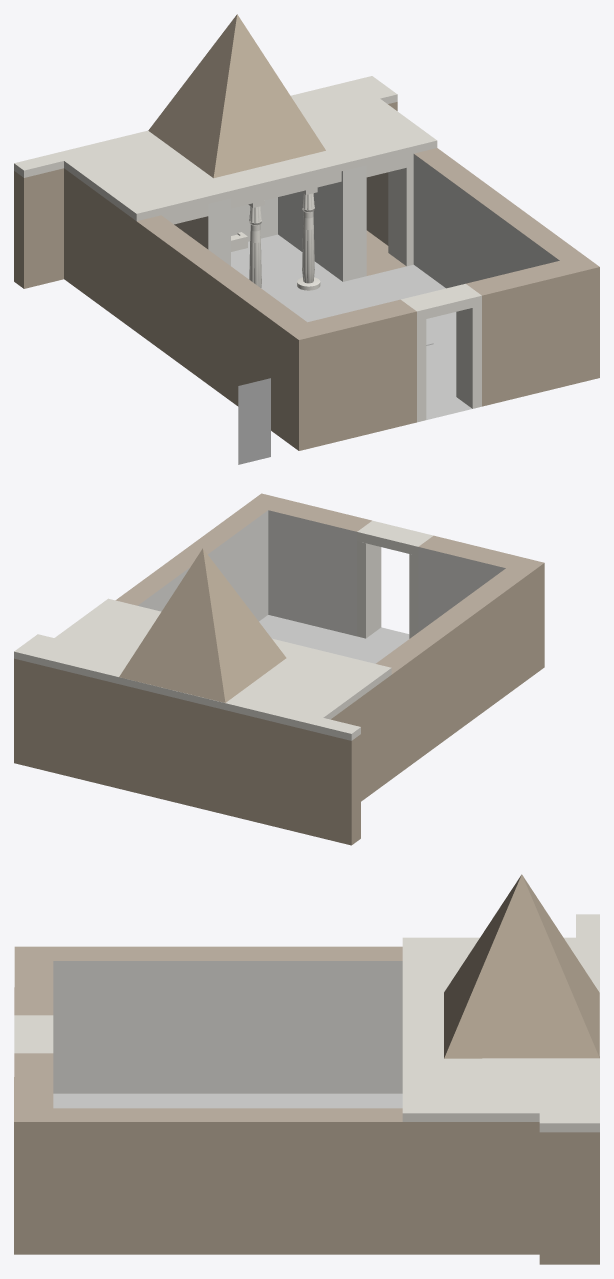
File: Ipuia.glb
3 views of the same model, one above another, from view 1: azimuth 30°, elevation 25°; view 2: azimuth 150°, elevation 25°; view 3: azimuth 270°, elevation 25° (orthographic). The views are drawn at different scales.
Visible parts, largest first — view 1: Mesh6 Model, Mesh5 Component_3_1 Model, Mesh7 Model, Mesh3 Component_13_2 Model, Mesh1 Component_13_1 Model; view 2: Mesh6 Model, Mesh5 Component_3_1 Model; view 3: Mesh6 Model, Mesh5 Component_3_1 Model.
Boxes of the visible parts, x1,y1,x2,y2 form: Mesh6 Model: (14, 76, 599, 450); Mesh5 Component_3_1 Model: (148, 14, 325, 178); Mesh7 Model: (238, 378, 270, 464); Mesh3 Component_13_2 Model: (301, 187, 317, 283); Mesh1 Component_13_1 Model: (248, 200, 264, 287); Mesh6 Model: (14, 493, 544, 845); Mesh5 Component_3_1 Model: (119, 548, 286, 702); Mesh6 Model: (14, 914, 599, 1264); Mesh5 Component_3_1 Model: (444, 874, 599, 1058).
Bounding box in the file's own units: 8.02 × 4.97 × 9.01.
